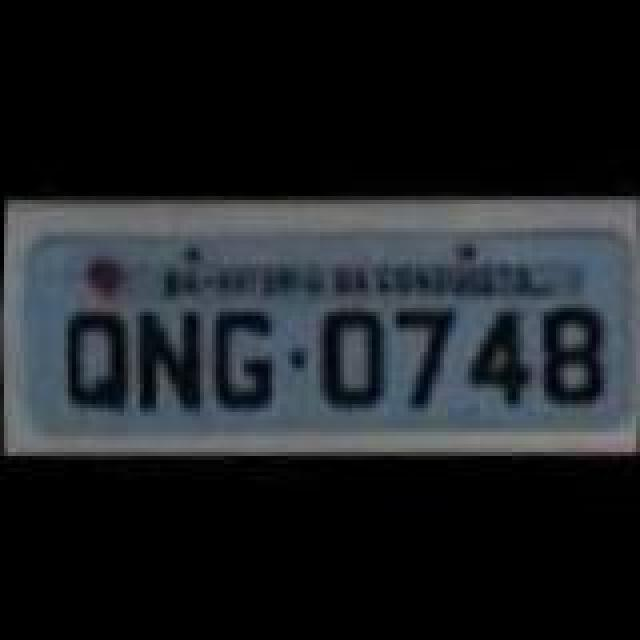4: (466, 300, 542, 412)
7: (388, 296, 460, 408)
8: (530, 290, 614, 410)
G: (198, 294, 278, 410)
N: (124, 296, 208, 416)
O: (312, 300, 388, 416)
Q: (54, 304, 134, 420)
